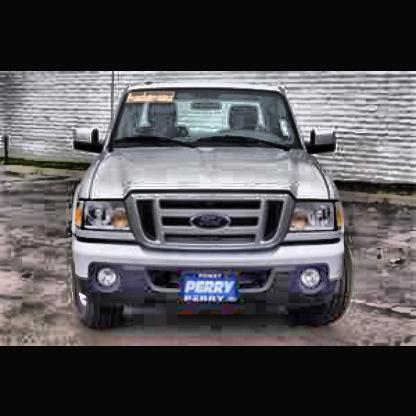Ford Ranger SuperCab 2011: (71, 82, 355, 330)
